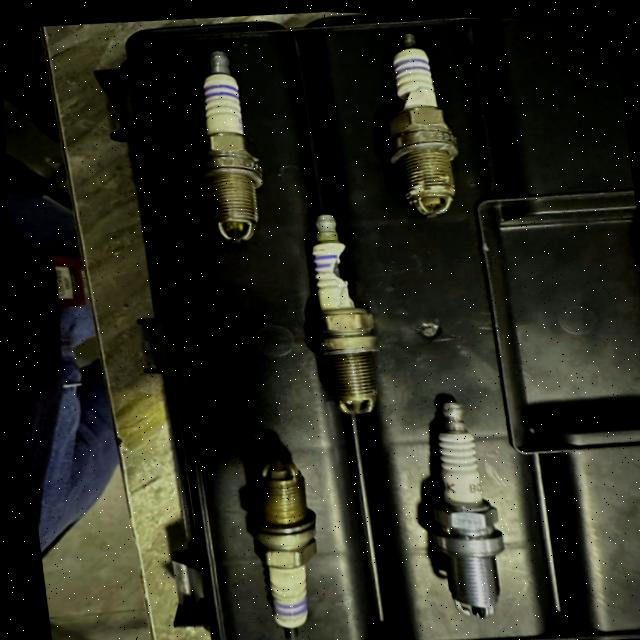damaged_spark-plug: (296, 200, 388, 416), (378, 22, 470, 215)
spark-plug: (415, 389, 509, 618), (229, 445, 321, 640), (172, 49, 263, 245)
